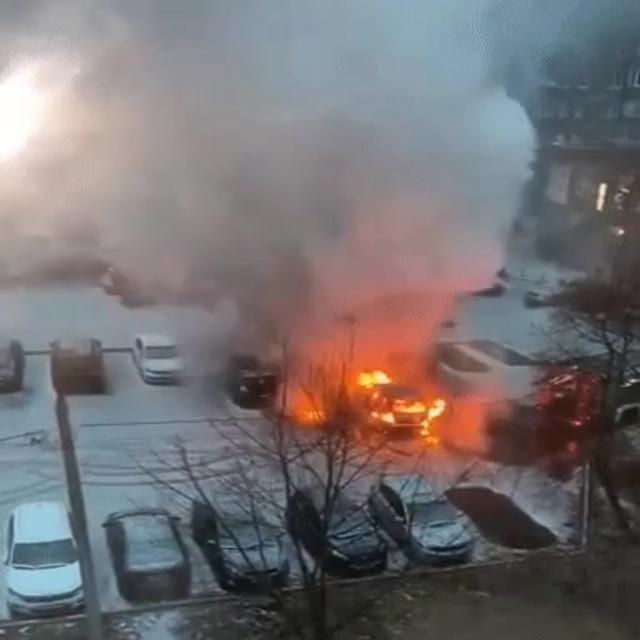Fire: (356, 365, 449, 441)
Smoke: (0, 0, 548, 375)
